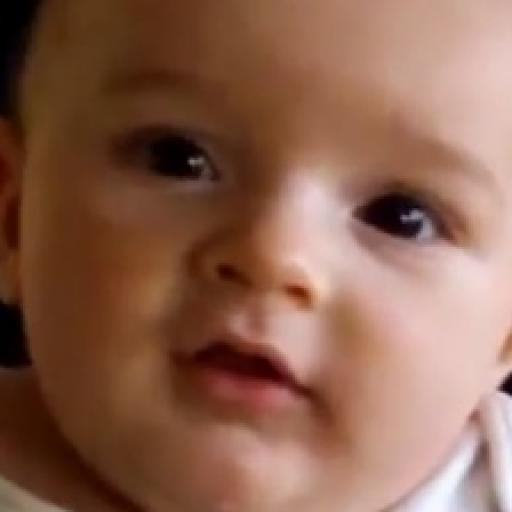Autism: (22, 14, 497, 488)
